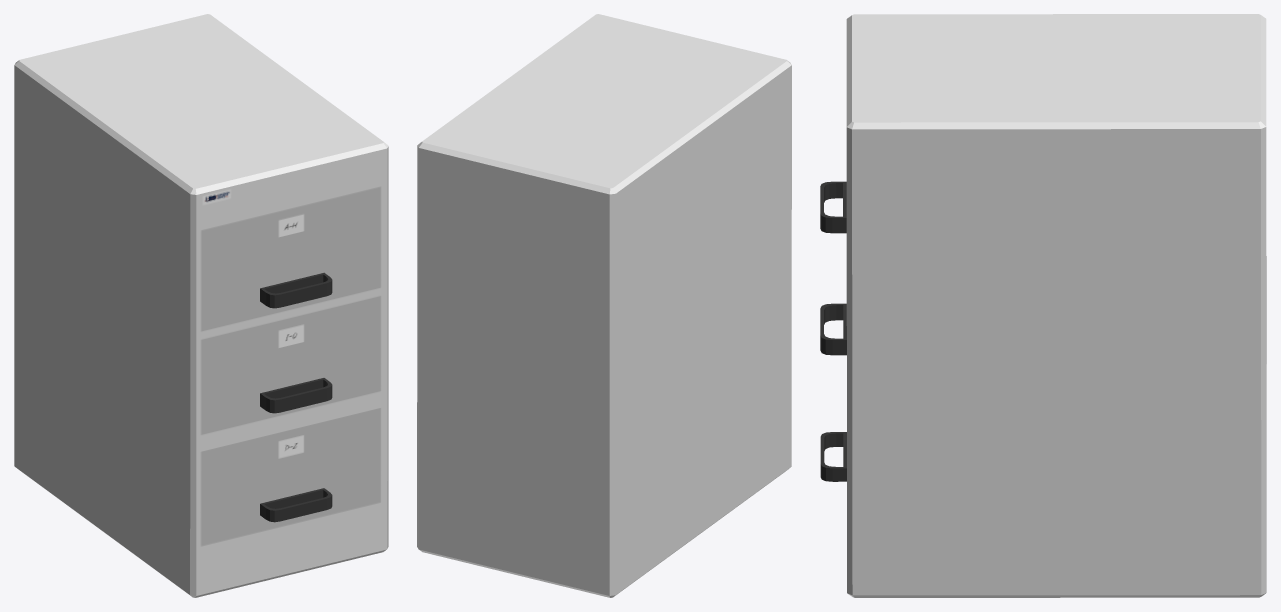
Rendered from Arquivo.FBX.
The picture shows the model from 3 angles, left to right: view 1: azimuth 30°, elevation 25°; view 2: azimuth 150°, elevation 25°; view 3: azimuth 270°, elevation 25°; orthographic projection. The views are drawn at different scales.
Parts seen in each view (by area): view 1: OBJ_Arquivo; view 2: OBJ_Arquivo; view 3: OBJ_Arquivo.
Part boxes in pixels (x1,y1,x2,y2): OBJ_Arquivo: (14, 14, 388, 597); OBJ_Arquivo: (417, 14, 791, 597); OBJ_Arquivo: (820, 14, 1266, 597).
Size of the model in its own units: 21.87 by 43.12 by 36.67.
